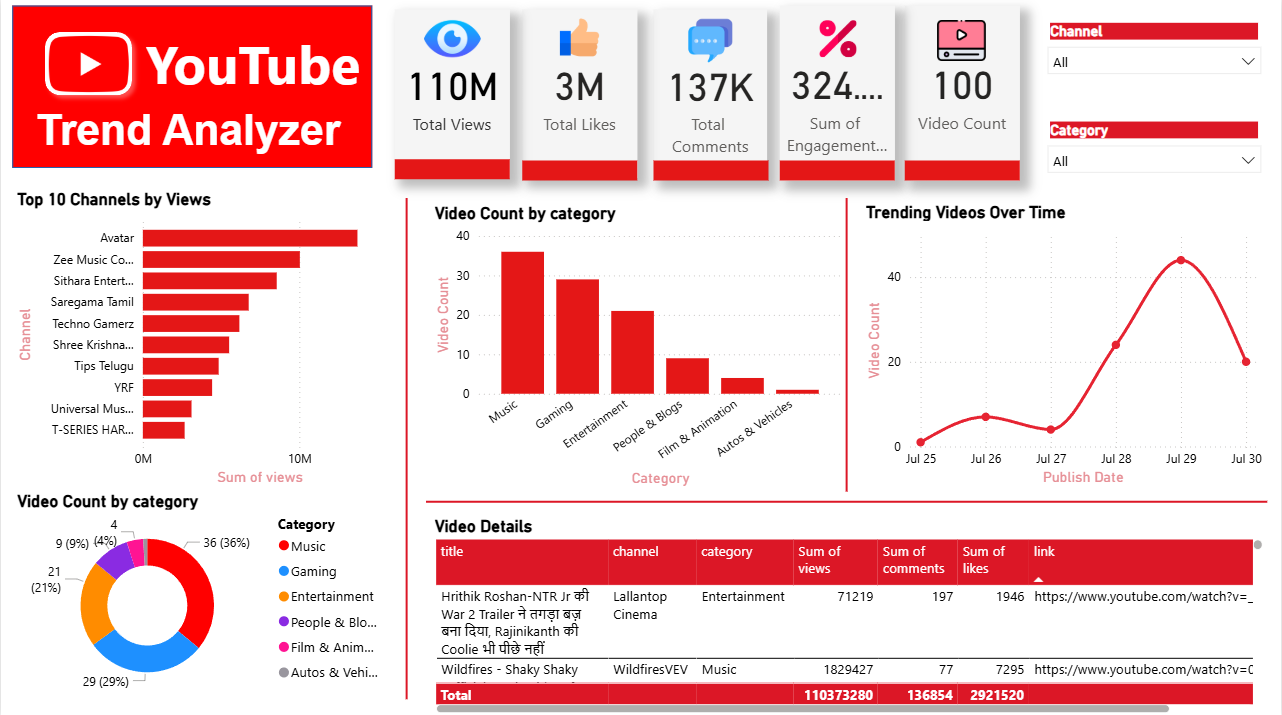

Layout of this report page (visuals, bound fields, positions):
{"tool":"powerbi","page":{"name":"Page 1","canvas":[1280,720],"ordinal":0},"visuals":[{"type":"card","title":"Comments","fields":{"Values":["trending_data.Total Comments"]},"box":[652.5,11.2,113.8,170],"z":0},{"type":"card","title":"Likes","fields":{"Values":["trending_data.Total Likes"]},"box":[521.2,11.2,115,168.8],"z":1000},{"type":"card","title":"Views","fields":{"Values":["trending_data.Total Views"]},"box":[393.8,11.2,115,168.8],"z":2000},{"type":"card","title":"Video Count","fields":{"Values":["trending_data.Video Count"]},"box":[903.8,7.5,115,175],"z":3000},{"type":"slicer","fields":{"Values":["trending_data.category"]},"box":[1036.2,118.8,233.8,86.2],"z":4000},{"type":"slicer","fields":{"Values":["trending_data.channel"]},"box":[1036.2,20,233.8,81.2],"z":5000},{"type":"clusteredBarChart","title":"Top 10 Channels by Views","fields":{"Category":["trending_data.channel"],"Y":["trending_data.views"]},"box":[11.2,191.2,382.5,301.2],"z":6000},{"type":"donutChart","fields":{"Category":["trending_data.category"],"Y":["trending_data.Video Count"]},"box":[11.2,492.5,382.5,211.2],"z":7000},{"type":"lineChart","title":"Trending Videos Over Time","fields":{"Y":["trending_data.Video Count"],"Category":["trending_data.publish_date.Variation.Date Hierarchy.Month"]},"box":[860,203.8,406.2,288.8],"z":8000},{"type":"tableEx","title":"Video Details ","fields":{"Values":["trending_data.title","trending_data.channel","trending_data.category","trending_data.views","trending_data.comments","trending_data.likes","trending_data.link"]},"box":[428.8,517.5,837.5,202.5],"z":9000},{"type":"actionButton","box":[0,0,100,40],"z":10000},{"type":"clusteredColumnChart","fields":{"Category":["trending_data.category"],"Y":["trending_data.Video Count"]},"box":[428.8,205,417.5,288.8],"z":11000},{"type":"shape","box":[11.2,11.2,360,162.5],"z":12000},{"type":"textbox","box":[30,102.5,321.2,60],"z":13000},{"type":"card","fields":{"Values":["trending_data.Engagement Rate"]},"box":[778.8,7.5,115,175],"z":14000},{"type":"image","box":[552.5,15,51.2,48.8],"z":15000},{"type":"image","box":[682.5,15,53.8,55],"z":16000},{"type":"image","box":[931.2,12.5,58.8,60],"z":17000},{"type":"image","box":[813.8,17.5,46.2,46.2],"z":18000},{"type":"image","box":[415,7.5,72.5,66.2],"z":19000},{"type":"textbox","box":[140,23.8,231.2,85],"z":20000},{"type":"shape","box":[35,25,105,81.2],"z":21000},{"type":"image","box":[35,21.2,105,90],"z":22000},{"type":"shape","box":[393.8,161.2,115,20],"z":23000},{"type":"shape","box":[521.2,162.5,115,20],"z":24000},{"type":"shape","box":[652.5,162.5,115,20],"z":25000},{"type":"shape","box":[778.8,162.5,115,20],"z":26000},{"type":"shape","box":[903.8,162.5,115,20],"z":27000},{"type":"shape","box":[258.8,200,293.8,501.2],"z":28000},{"type":"shape","box":[698.8,200,293.8,293.8],"z":29000},{"type":"shape","box":[425,371.2,841.2,265],"z":30000}]}

Visuals, with their boxes in screenshot pixels (x1, y1, x2, y2), scaled from the page's 1280x720 canvas onto the 1282x715 screenshot:
"Comments" card: [left=654, top=11, right=767, bottom=180]
"Likes" card: [left=522, top=11, right=637, bottom=179]
"Views" card: [left=394, top=11, right=510, bottom=179]
"Video Count" card: [left=905, top=7, right=1020, bottom=181]
slicer - trending_data.category: [left=1038, top=118, right=1272, bottom=204]
slicer - trending_data.channel: [left=1038, top=20, right=1272, bottom=100]
"Top 10 Channels by Views" clusteredBarChart: [left=11, top=190, right=394, bottom=489]
donutChart - trending_data.category x trending_data.Video Count: [left=11, top=489, right=394, bottom=699]
"Trending Videos Over Time" lineChart: [left=861, top=202, right=1268, bottom=489]
"Video Details " tableEx: [left=429, top=514, right=1268, bottom=714]
actionButton: [left=0, top=0, right=100, bottom=40]
clusteredColumnChart - trending_data.category x trending_data.Video Count: [left=429, top=204, right=848, bottom=490]
shape: [left=11, top=11, right=372, bottom=172]
textbox: [left=30, top=102, right=352, bottom=161]
card - trending_data.Engagement Rate: [left=780, top=7, right=895, bottom=181]
image: [left=553, top=15, right=605, bottom=63]
image: [left=684, top=15, right=737, bottom=70]
image: [left=933, top=12, right=992, bottom=72]
image: [left=815, top=17, right=861, bottom=63]
image: [left=416, top=7, right=488, bottom=73]
textbox: [left=140, top=24, right=372, bottom=108]
shape: [left=35, top=25, right=140, bottom=105]
image: [left=35, top=21, right=140, bottom=110]
shape: [left=394, top=160, right=510, bottom=180]
shape: [left=522, top=161, right=637, bottom=181]
shape: [left=654, top=161, right=769, bottom=181]
shape: [left=780, top=161, right=895, bottom=181]
shape: [left=905, top=161, right=1020, bottom=181]
shape: [left=259, top=199, right=553, bottom=696]
shape: [left=700, top=199, right=994, bottom=490]
shape: [left=426, top=369, right=1268, bottom=632]
